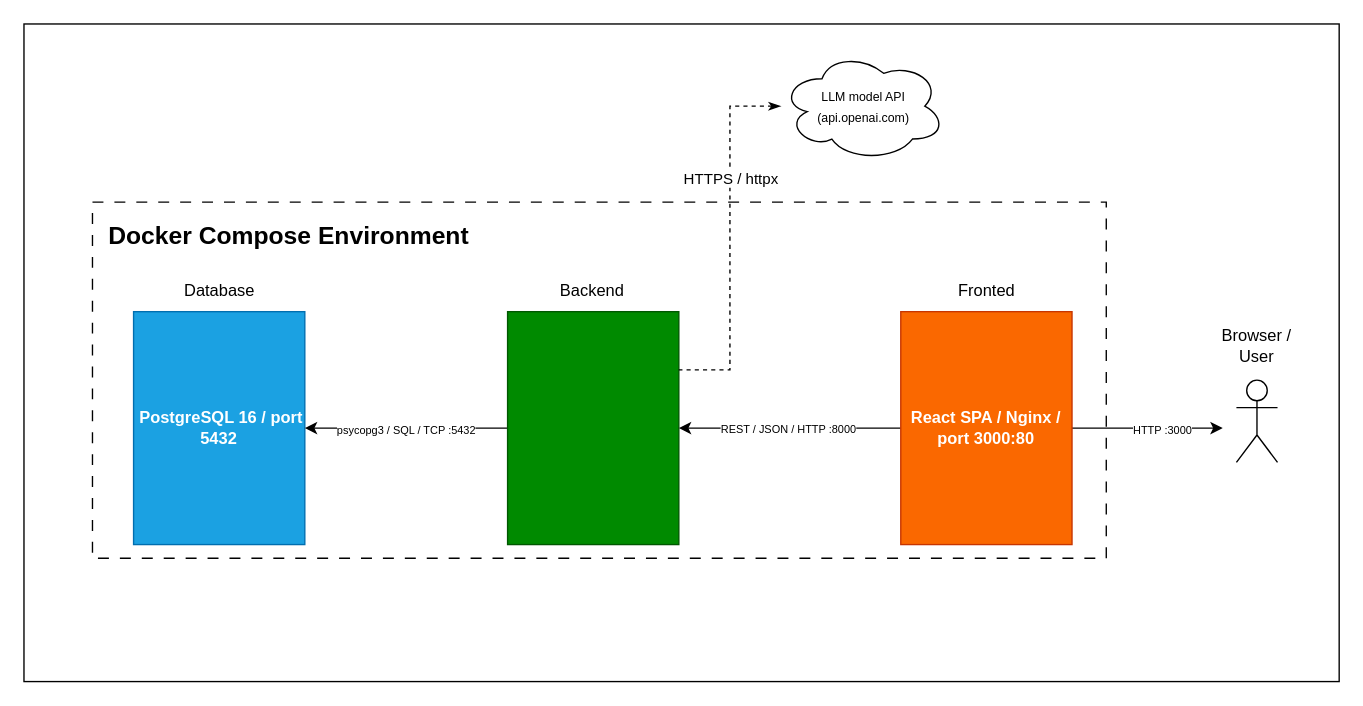
This 1363x706 diagram has some shape labels left out. The centre of each missing label's shape, as x and y in pixels:
"Actor" belongs at (x=1256, y=420).
"FastAPI / Uvicorn/ Python 3.11 + Node 22 / port 8000" belongs at (x=592, y=427).
